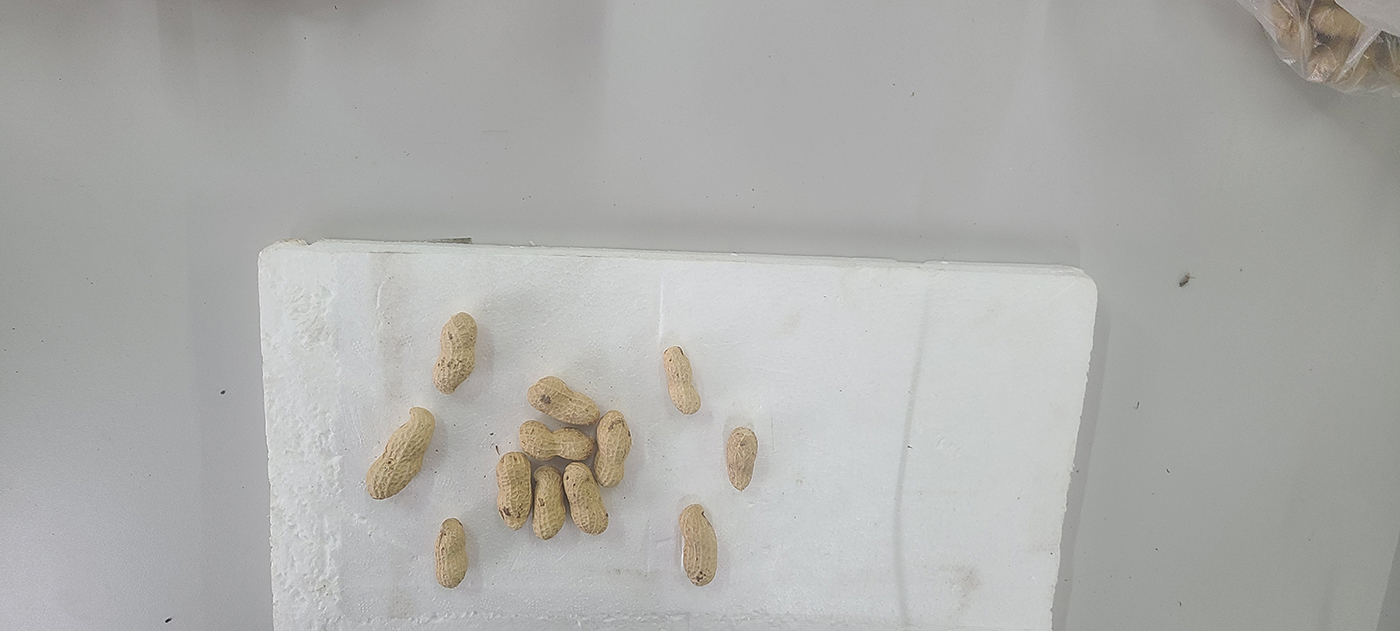h: (365, 406, 436, 500), (526, 376, 600, 426), (564, 462, 609, 534), (679, 504, 718, 587), (519, 421, 597, 460), (495, 452, 533, 530), (593, 410, 630, 486), (531, 465, 567, 539), (663, 344, 701, 414), (434, 518, 470, 588), (726, 427, 758, 489)
